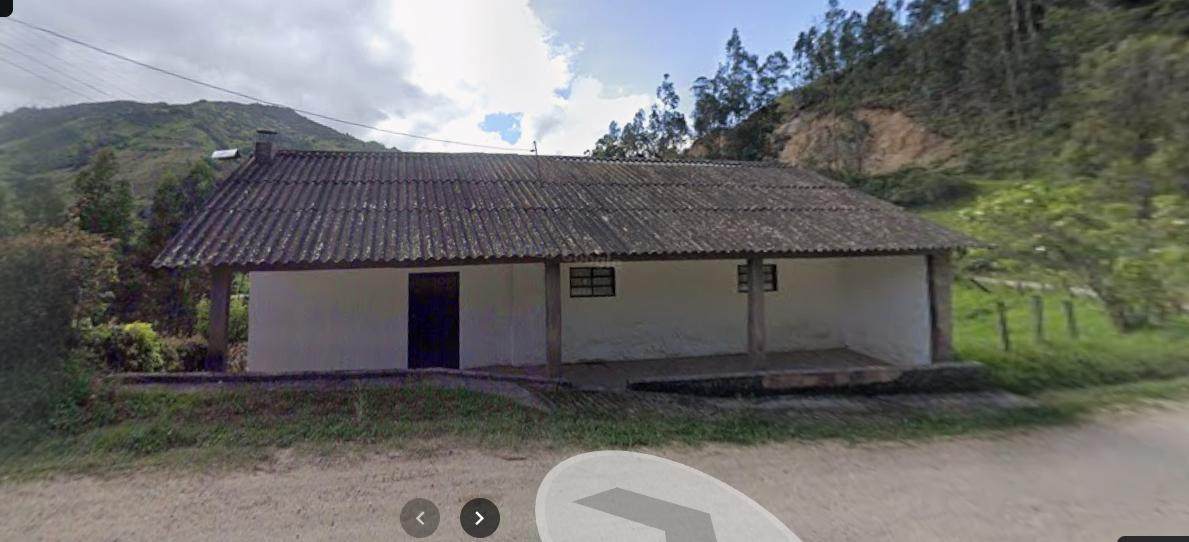casa: (118, 141, 982, 422)
